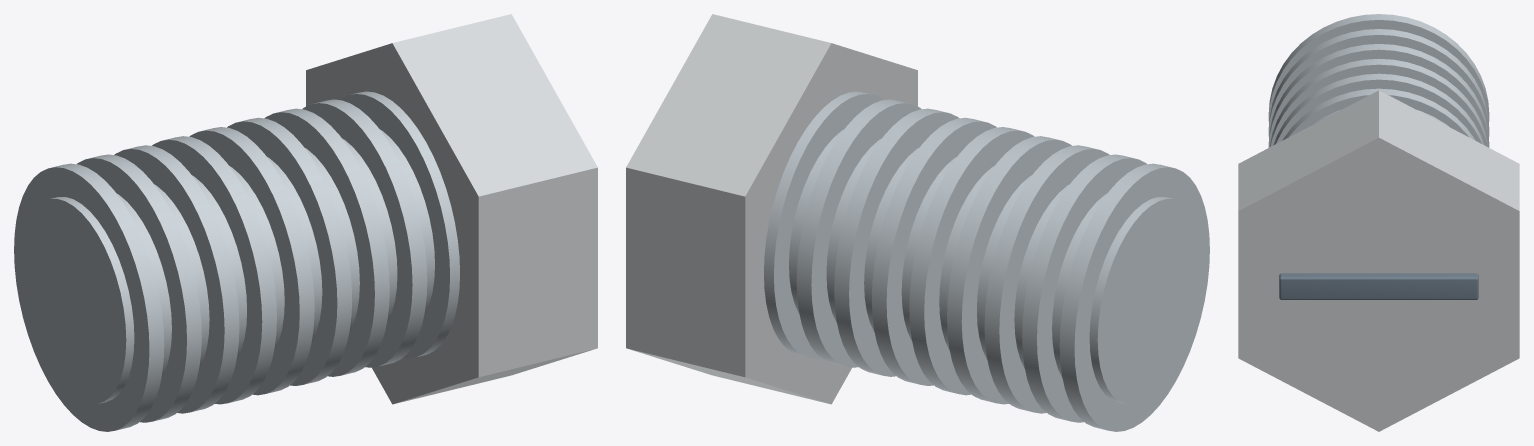
The model's file is TENSIONER.glb.
3 views of the same model, side by side, from view 1: azimuth 30°, elevation 25°; view 2: azimuth 150°, elevation 25°; view 3: azimuth 270°, elevation 25° (orthographic). The views are drawn at different scales.
Visible parts, largest first — view 1: TENSIONER/0010_hex_head, TENSIONER/0000_threaded_shank, TENSIONER/0001_thread, TENSIONER/0007_thread, TENSIONER/0005_thread, TENSIONER/0002_thread, TENSIONER/0003_thread, TENSIONER/0008_thread, TENSIONER/0006_thread, TENSIONER/0004_thread, TENSIONER/0009_thread; view 2: TENSIONER/0010_hex_head, TENSIONER/0000_threaded_shank, TENSIONER/0001_thread, TENSIONER/0007_thread, TENSIONER/0005_thread, TENSIONER/0002_thread, TENSIONER/0003_thread, TENSIONER/0008_thread, TENSIONER/0006_thread, TENSIONER/0004_thread, TENSIONER/0009_thread; view 3: TENSIONER/0010_hex_head, TENSIONER/0011_driver_slot, TENSIONER/0002_thread, TENSIONER/0001_thread, TENSIONER/0003_thread, TENSIONER/0004_thread, TENSIONER/0005_thread, TENSIONER/0006_thread.
Boxes of the visible parts, bbox=[...] form: TENSIONER/0010_hex_head: bbox=[306, 14, 597, 404]; TENSIONER/0000_threaded_shank: bbox=[21, 129, 434, 404]; TENSIONER/0001_thread: bbox=[14, 163, 164, 431]; TENSIONER/0007_thread: bbox=[264, 108, 389, 376]; TENSIONER/0005_thread: bbox=[189, 127, 314, 395]; TENSIONER/0002_thread: bbox=[77, 154, 201, 422]; TENSIONER/0003_thread: bbox=[114, 145, 239, 413]; TENSIONER/0008_thread: bbox=[302, 99, 427, 367]; TENSIONER/0006_thread: bbox=[227, 117, 352, 385]; TENSIONER/0004_thread: bbox=[152, 136, 276, 404]; TENSIONER/0009_thread: bbox=[340, 91, 459, 358]; TENSIONER/0010_hex_head: bbox=[626, 14, 917, 404]; TENSIONER/0000_threaded_shank: bbox=[789, 129, 1202, 404]; TENSIONER/0001_thread: bbox=[1059, 163, 1209, 431]; TENSIONER/0007_thread: bbox=[834, 108, 959, 376]; TENSIONER/0005_thread: bbox=[909, 127, 1034, 395]; TENSIONER/0002_thread: bbox=[1022, 154, 1146, 422]; TENSIONER/0003_thread: bbox=[984, 145, 1109, 413]; TENSIONER/0008_thread: bbox=[796, 99, 921, 367]; TENSIONER/0006_thread: bbox=[871, 117, 996, 385]; TENSIONER/0004_thread: bbox=[947, 136, 1071, 404]; TENSIONER/0009_thread: bbox=[764, 91, 883, 358]; TENSIONER/0010_hex_head: bbox=[1238, 90, 1519, 431]; TENSIONER/0011_driver_slot: bbox=[1279, 273, 1478, 299]; TENSIONER/0002_thread: bbox=[1268, 29, 1489, 136]; TENSIONER/0001_thread: bbox=[1268, 14, 1489, 121]; TENSIONER/0003_thread: bbox=[1268, 44, 1489, 147]; TENSIONER/0004_thread: bbox=[1269, 59, 1488, 146]; TENSIONER/0005_thread: bbox=[1273, 73, 1484, 145]; TENSIONER/0006_thread: bbox=[1282, 88, 1475, 140].
Size of the model in its own units: 0.0304 by 0.0233 by 0.0202.
